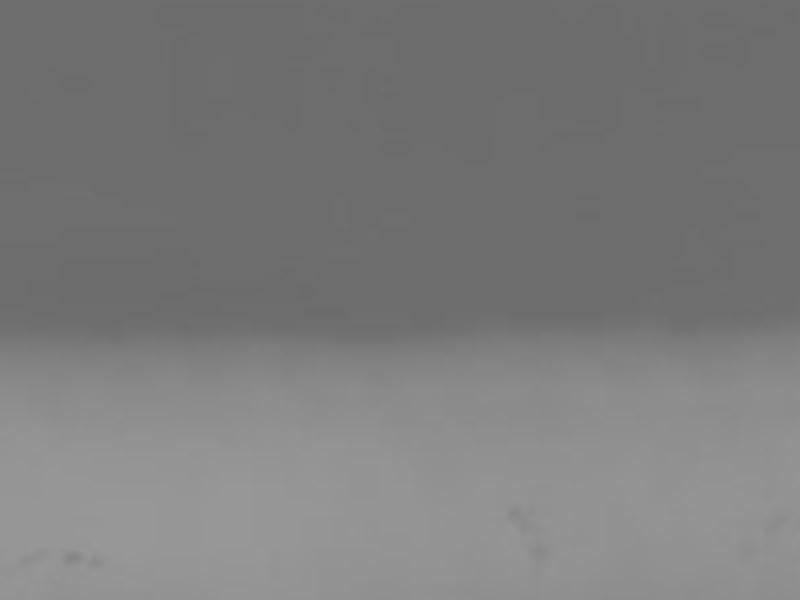defect: (500, 500, 532, 537), (15, 550, 53, 572), (528, 541, 553, 572), (761, 517, 789, 540), (85, 551, 109, 573), (64, 547, 80, 562)
